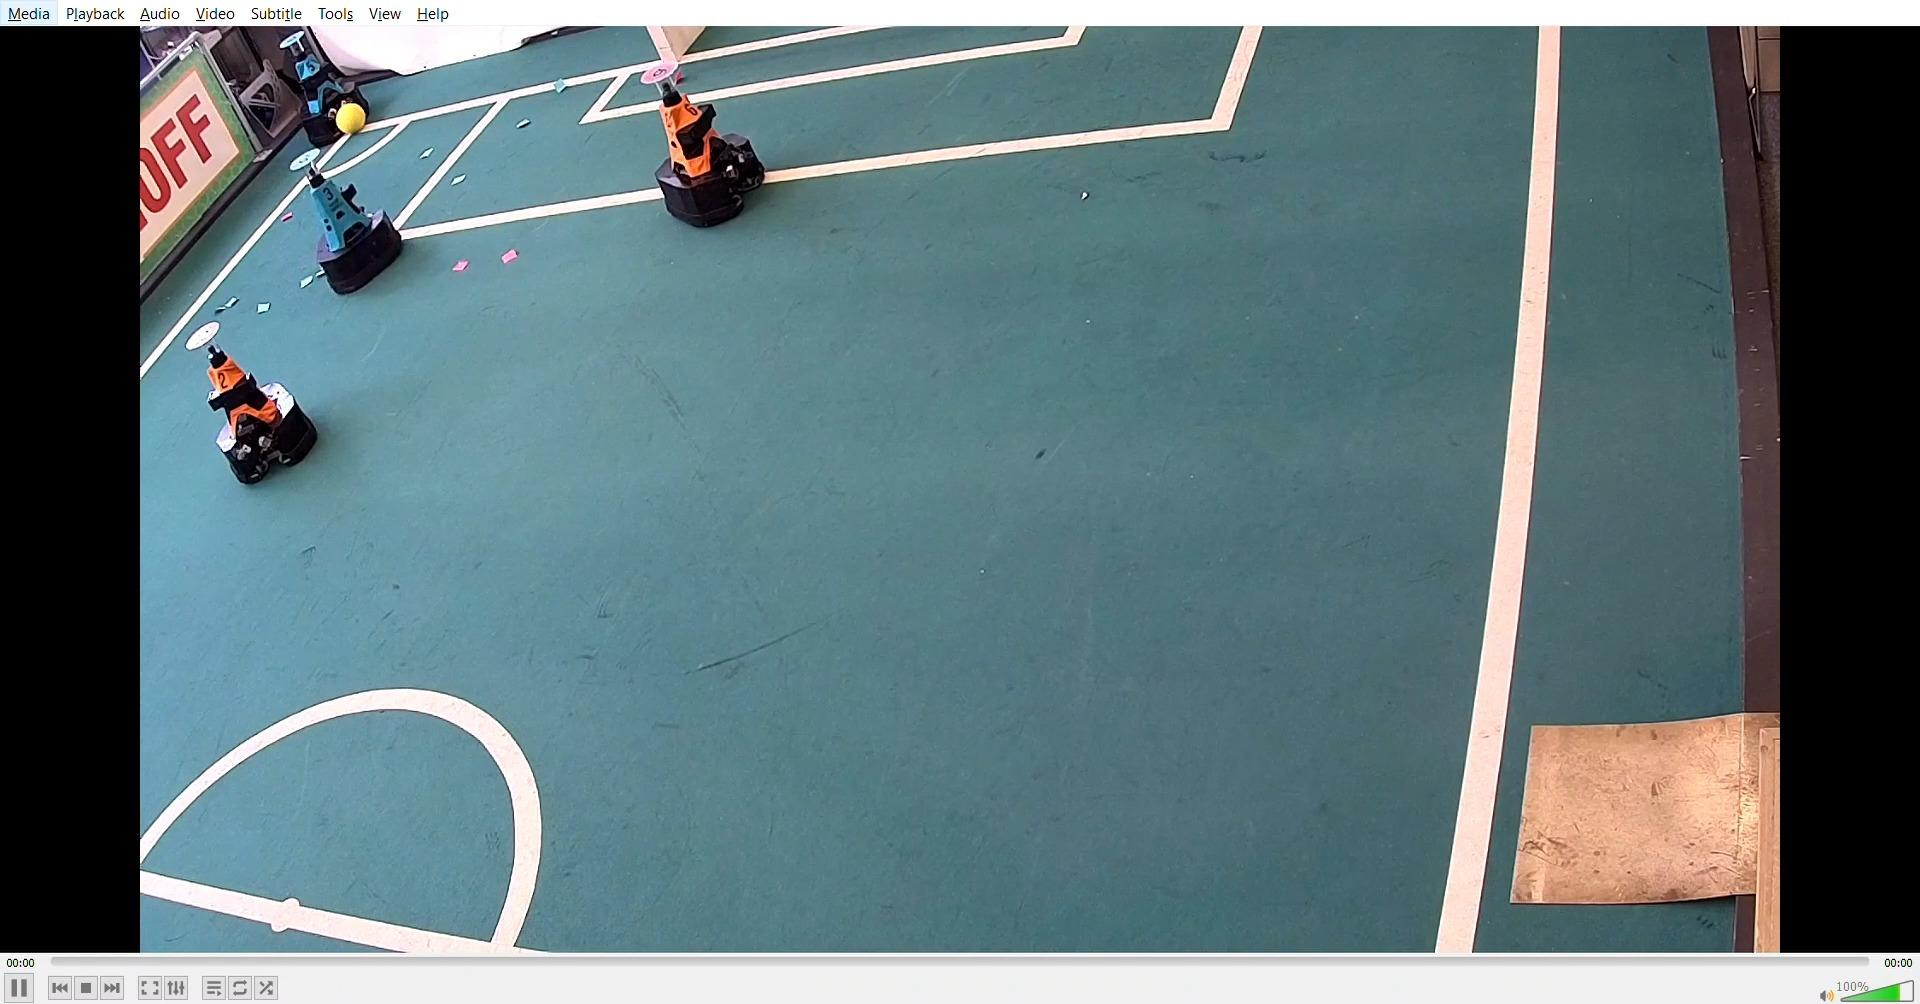Ball: (331, 99, 372, 138)
Team_Blue: (274, 149, 420, 298), (276, 33, 378, 143)
Team_Red: (183, 317, 343, 481), (636, 56, 773, 230)
